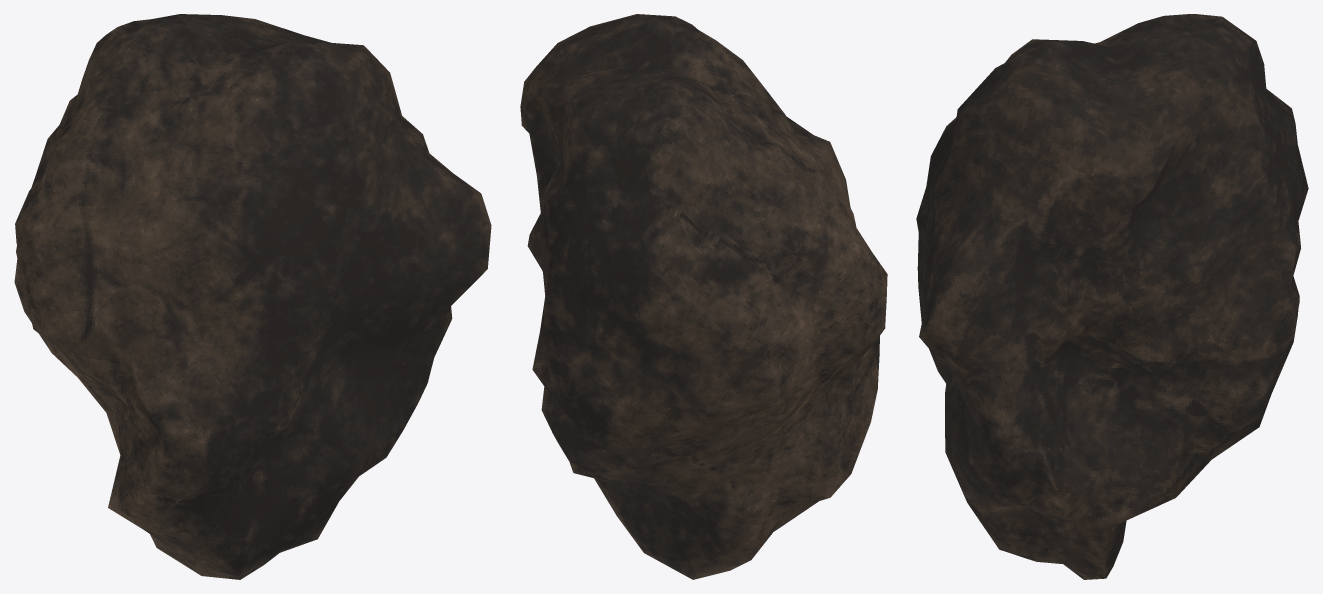
File: SM_RP2_Rock_4m_7.002.glb
3 views of the same model, side by side, from view 1: azimuth 30°, elevation 25°; view 2: azimuth 150°, elevation 25°; view 3: azimuth 270°, elevation 25° (orthographic). The views are drawn at different scales.
Visible parts, largest first — view 1: SM_RP2_Rock_4m_7.002; view 2: SM_RP2_Rock_4m_7.002; view 3: SM_RP2_Rock_4m_7.002.
Part boxes in pixels (bbox=[...]): SM_RP2_Rock_4m_7.002: bbox=[14, 14, 491, 579]; SM_RP2_Rock_4m_7.002: bbox=[520, 14, 887, 579]; SM_RP2_Rock_4m_7.002: bbox=[916, 14, 1308, 579].
Bounding box in the file's own units: 5.02 × 6.51 × 4.15.
1 material, 1 textured.
